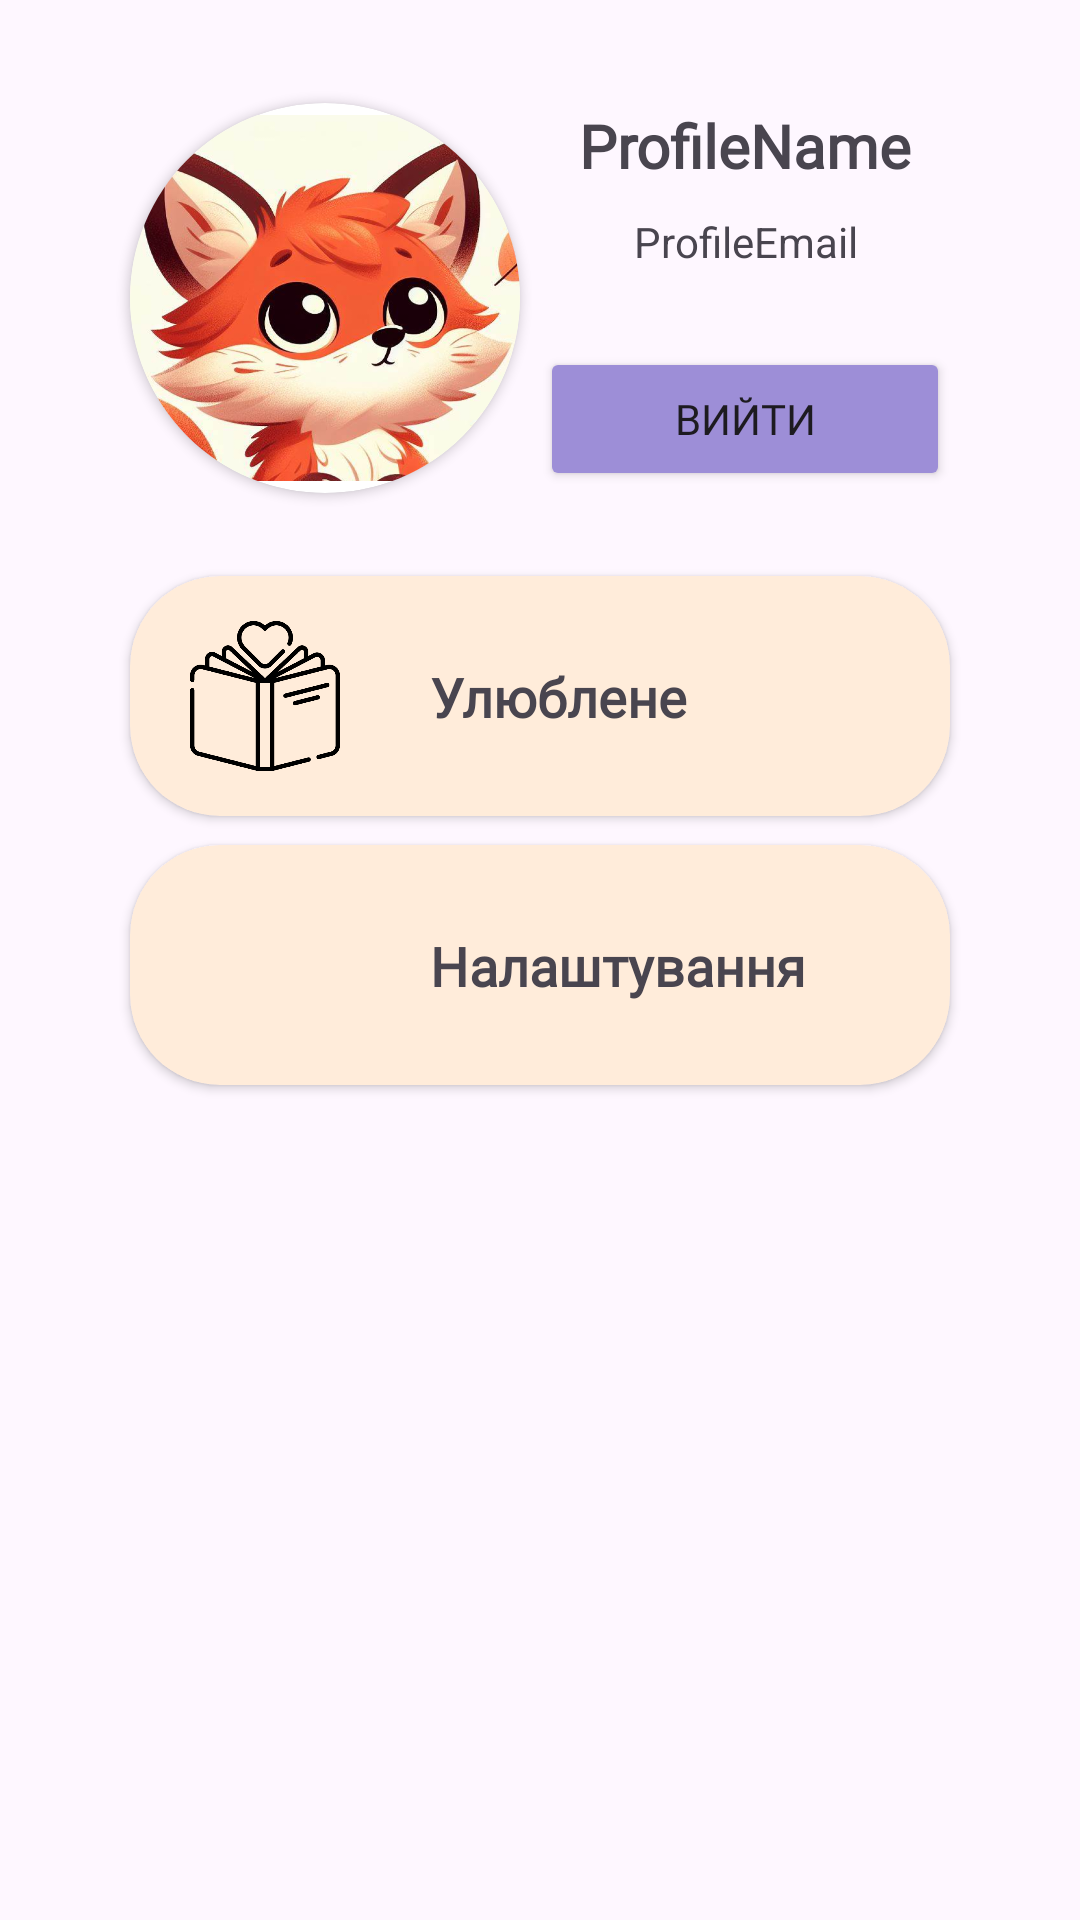

Icons on this 1080w x 1920h Android screen, each with the point to tap as point (x, y):
heart book: point (265, 696)
